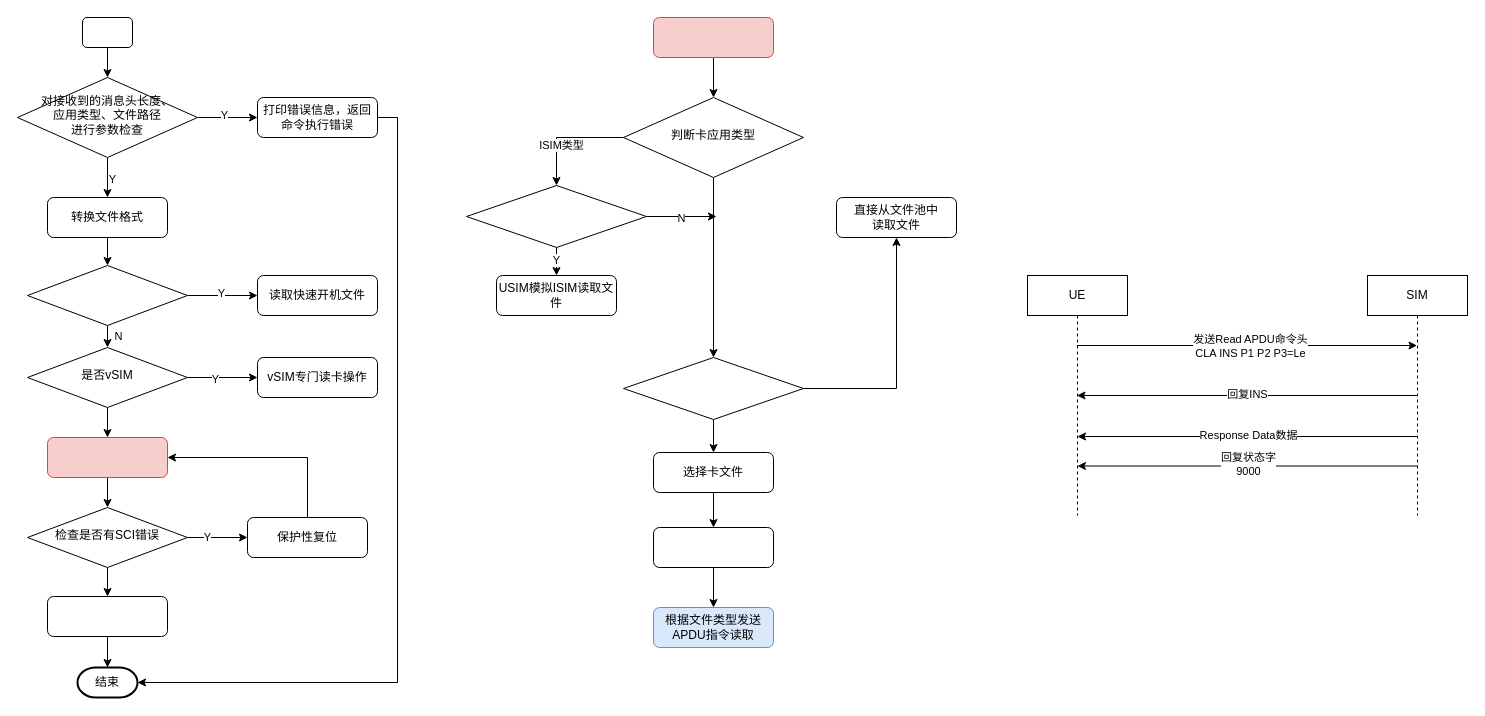
Some shapes in this 1485 by 716 pixel diagram are drawn without their labels. Each missing label, with the centre of its shape:
"开始" goes at point 107,32.
"开始文件读取操作" goes at point 713,37.
"文件是否在文件池中" goes at point 713,388.
"文件读取操作" goes at point 107,457.
"是否快速开机" goes at point 107,295.
"是否用USIM模拟ISIM" goes at point 556,216.
"读取文件结果回复" goes at point 107,616.
"限制读取文件大小" goes at point 713,547.
